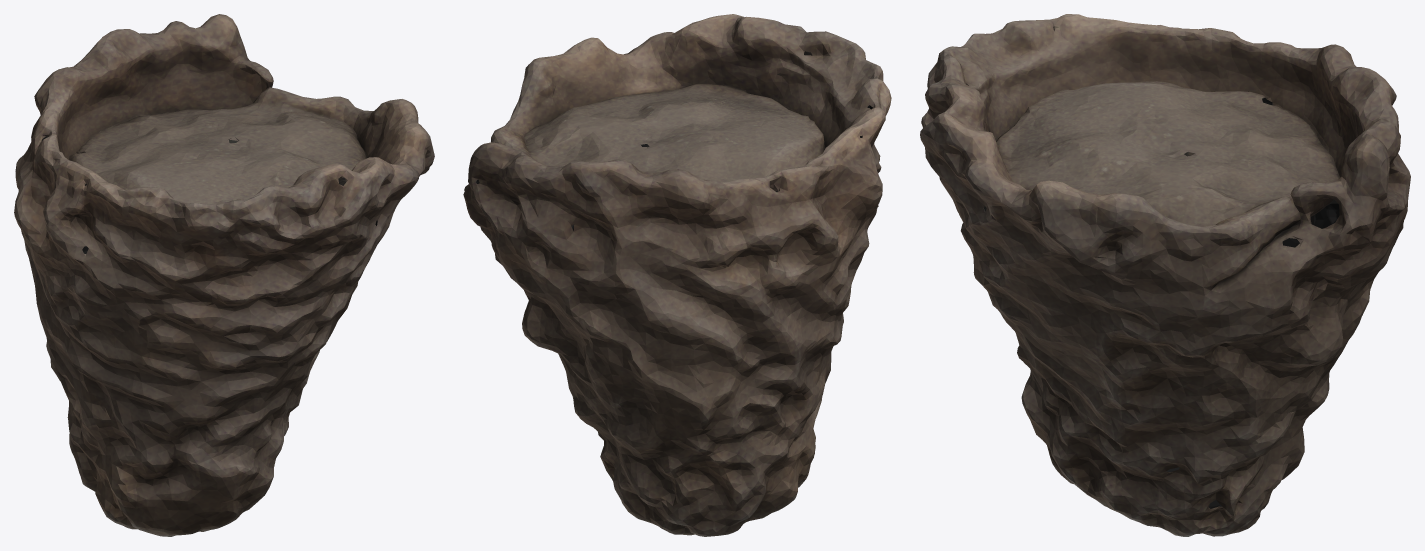
3 views of the same model, side by side, from view 1: azimuth 30°, elevation 25°; view 2: azimuth 150°, elevation 25°; view 3: azimuth 270°, elevation 25° (orthographic). The views are drawn at different scales.
Visible parts, largest first — view 1: world; view 2: world; view 3: world.
Part boxes in pixels (x1=…): world: x1=14, y1=14, x2=434, y2=536; world: x1=463, y1=14, x2=891, y2=536; world: x1=920, y1=14, x2=1410, y2=536.
Size of the model in its own units: 0.0686 by 0.075 by 0.0732.
Materials: 1 (1 with a texture image).
